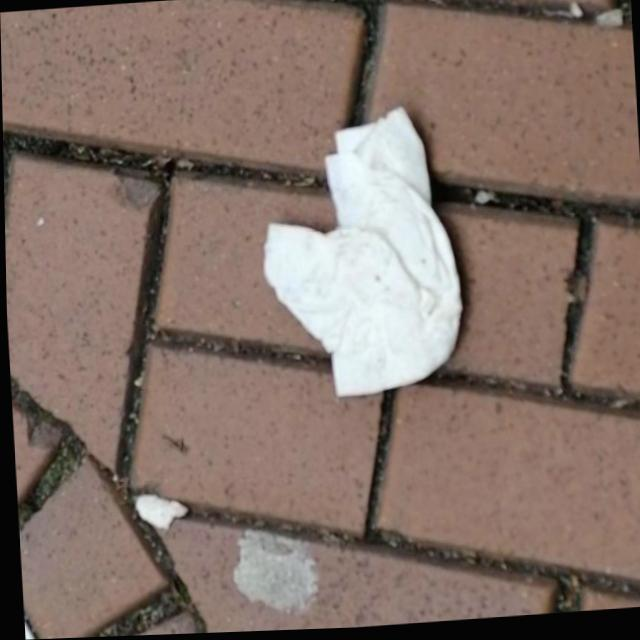Paper: (249, 102, 472, 403)
